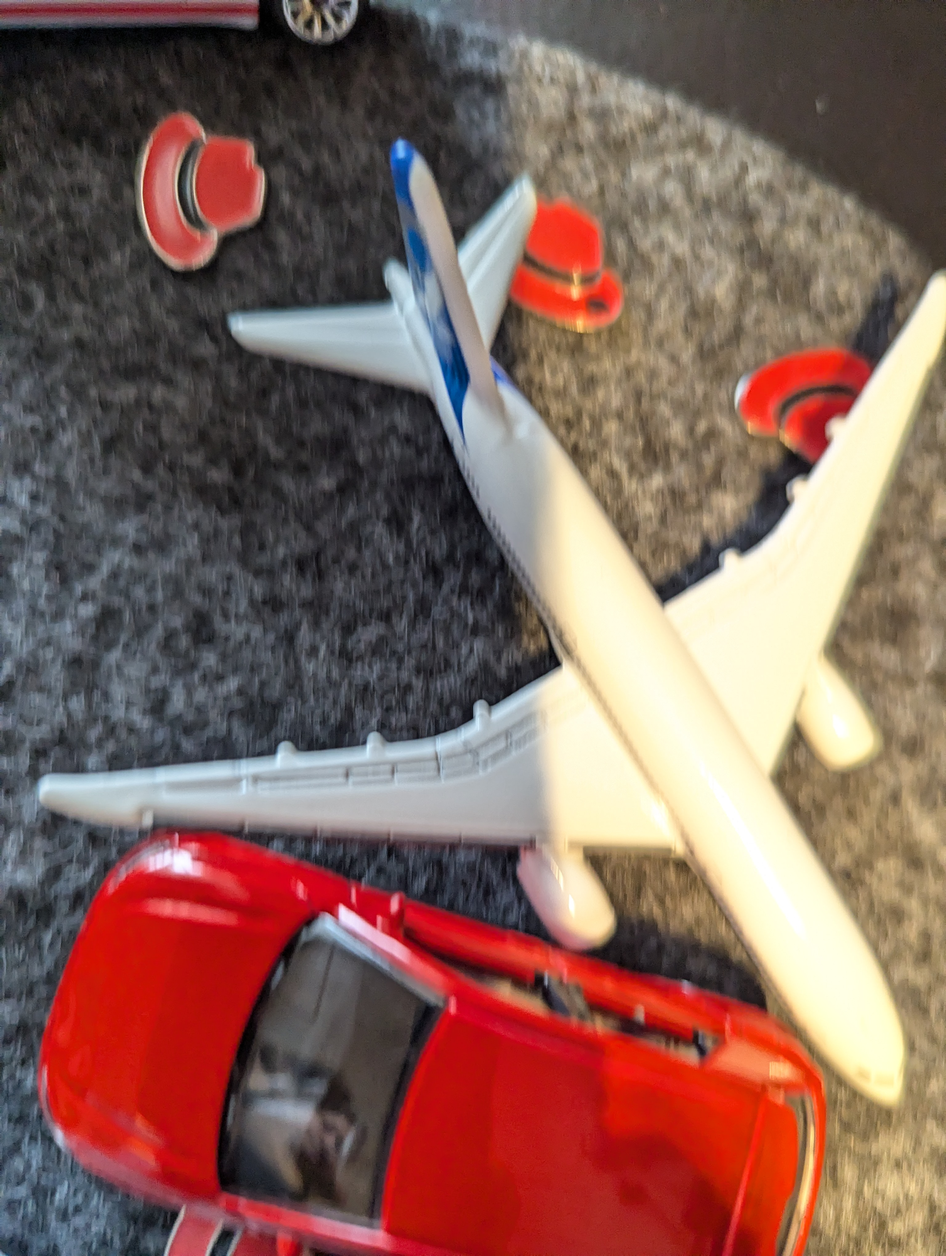Airplane: (11, 116, 946, 1133)
Car: (20, 806, 852, 1256)
Red-Hat: (106, 95, 274, 280), (709, 323, 885, 497), (464, 187, 647, 344)
Scratch: (577, 288, 626, 325)
